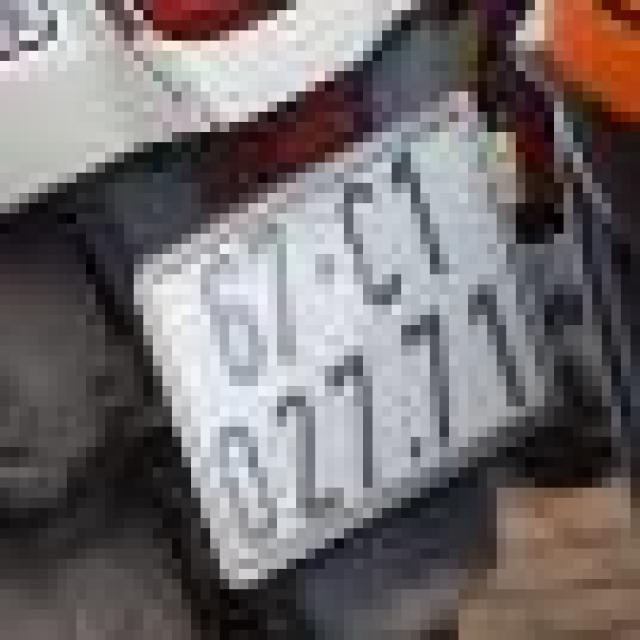0: (200, 407, 296, 567)
1: (371, 135, 479, 295), (455, 263, 546, 432)
2: (265, 378, 361, 538)
6: (183, 239, 284, 403)
7: (230, 207, 327, 383), (314, 339, 401, 504), (391, 294, 473, 466)
C: (321, 163, 422, 329)
